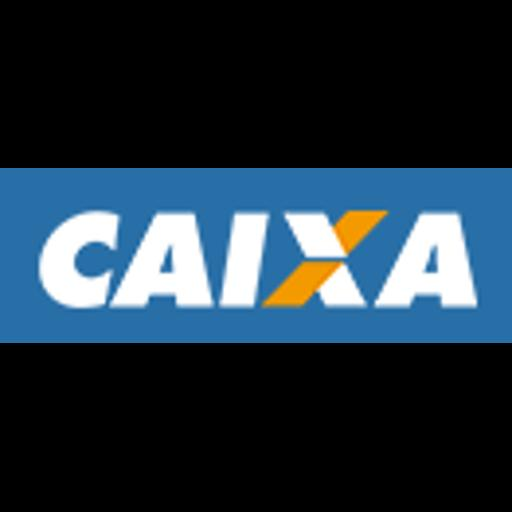Caixa Economica Federal: (0, 168, 512, 343)
